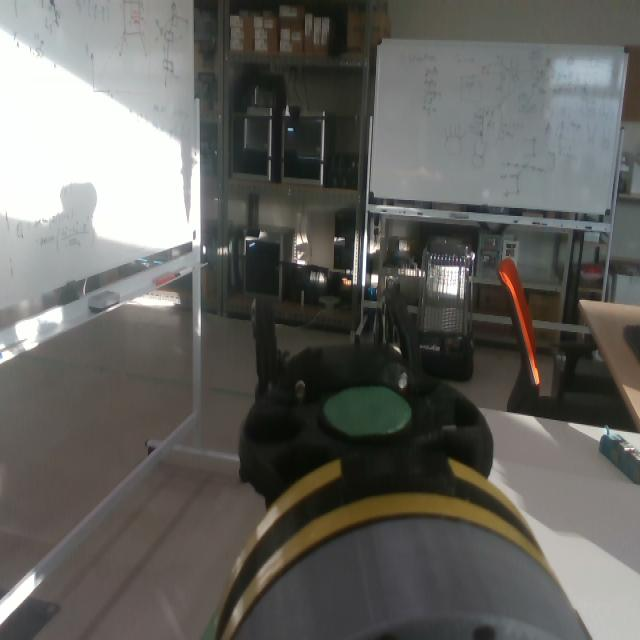body_connector: (234, 516, 592, 640)
connection: (218, 455, 586, 640)
leg: (213, 292, 547, 640)
leg_connector: (210, 447, 553, 637)
marker: (322, 385, 409, 433)
